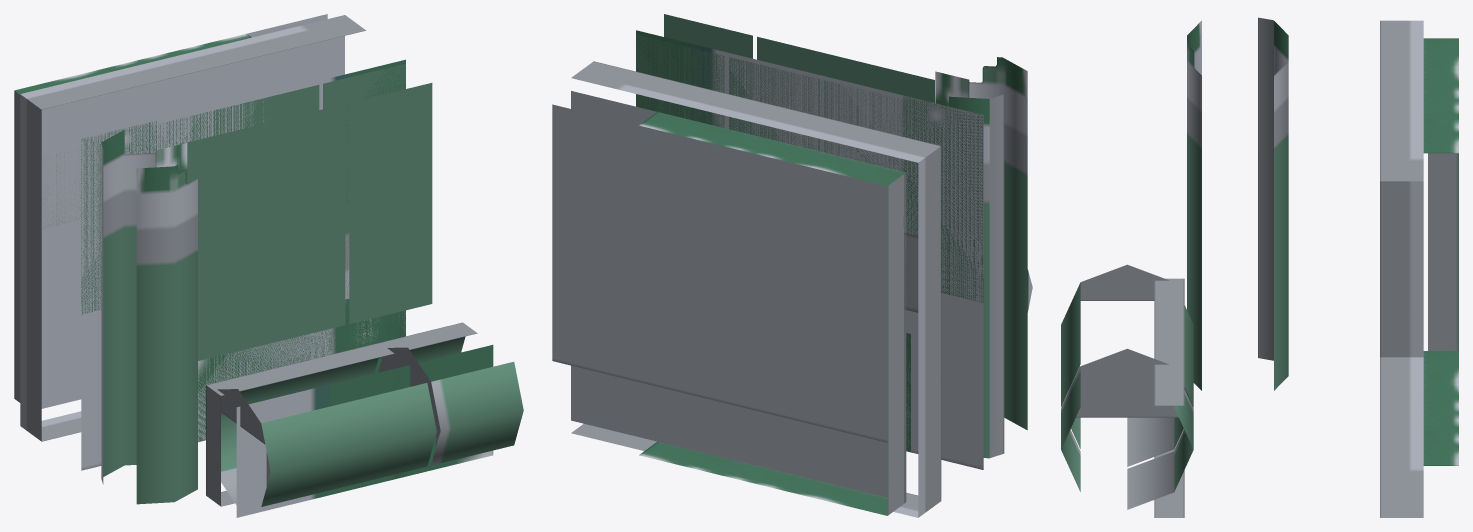
File: section-1.obj
3 renders of one model, left to right at view 1: azimuth 30°, elevation 25°; view 2: azimuth 150°, elevation 25°; view 3: azimuth 270°, elevation 25°, orthographic. The views are drawn at different scales.
Bounding box in the file's own units: 0.875 × 0.85 × 0.9.
